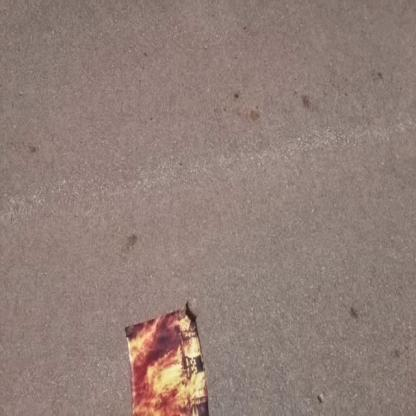fire-poster: (122, 297, 210, 415)
